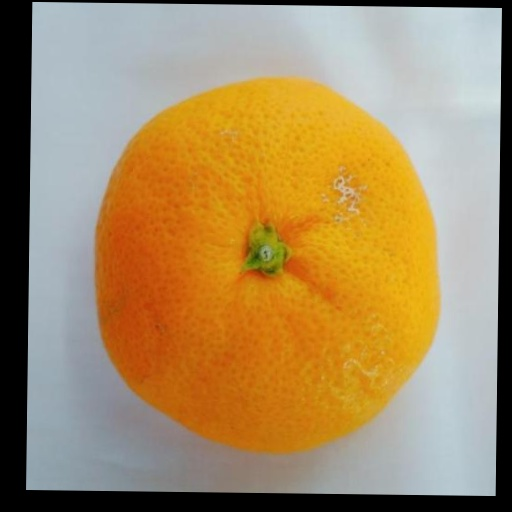fruit: (95, 78, 439, 451)
